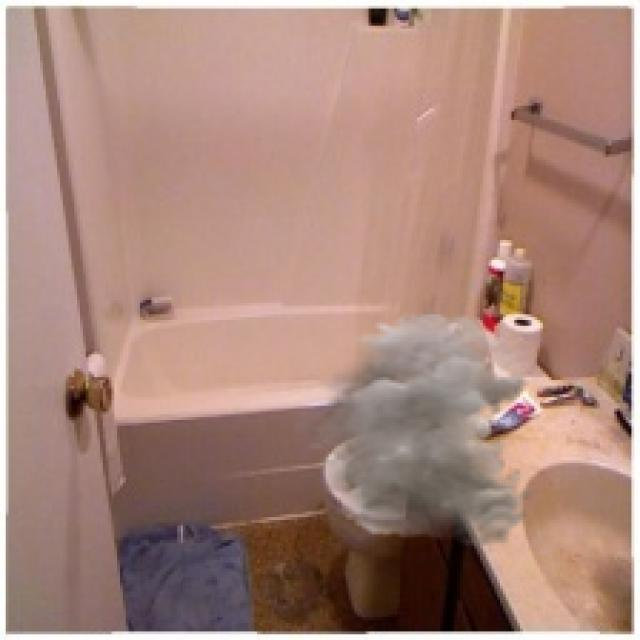Smoke: (292, 312, 534, 548)
